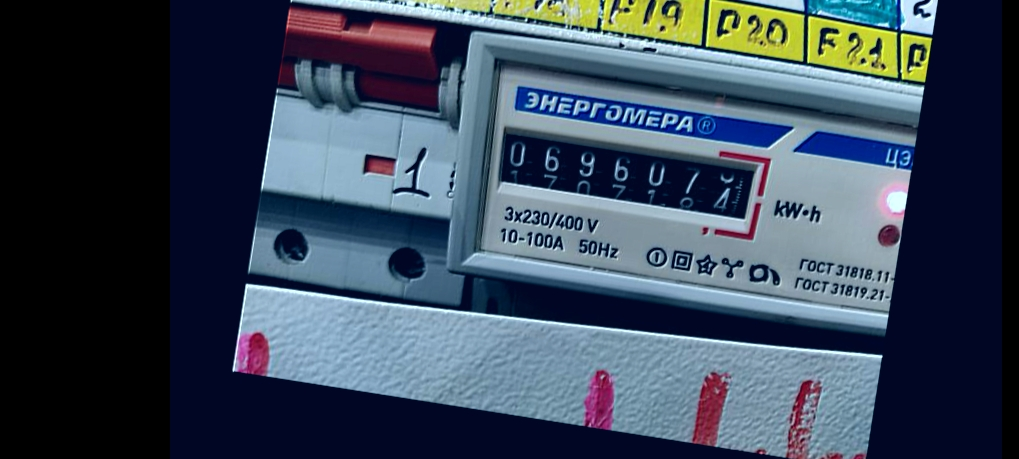0: (505, 138, 531, 171), (646, 159, 669, 190)
4: (710, 184, 733, 215)
6: (610, 153, 635, 187), (541, 143, 564, 175)
7: (681, 163, 703, 197)
9: (576, 149, 600, 180)
screen: (482, 109, 776, 244)
